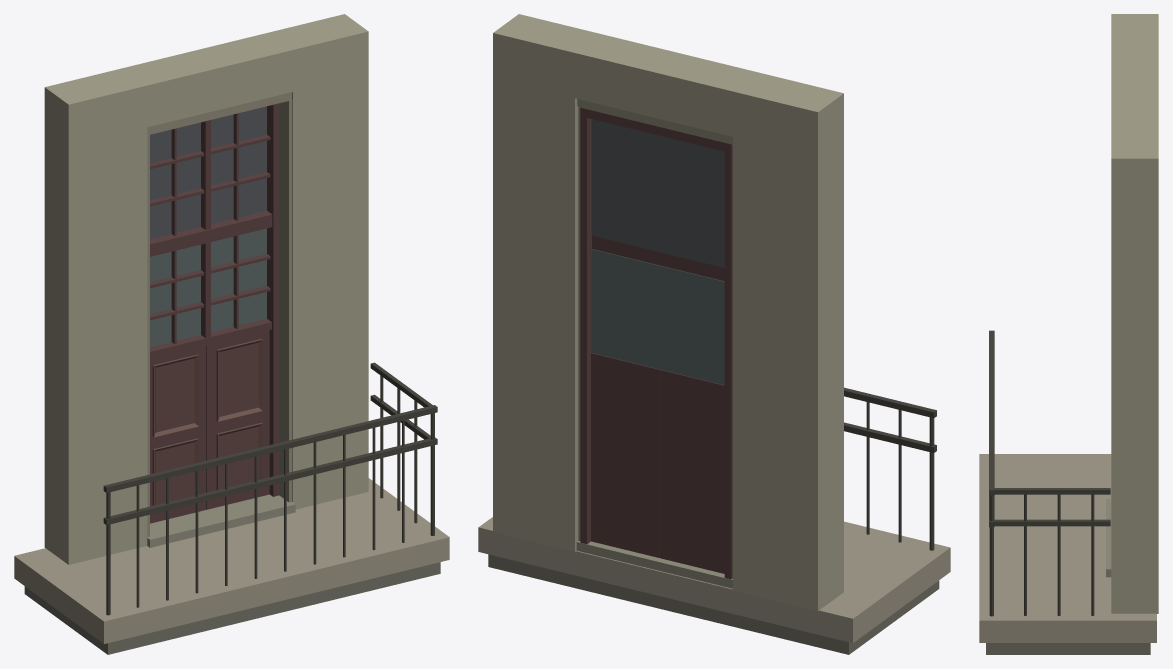
The model's file is huangpu-fuxing-599-glazed-balcony-door-lod.glb.
3 views of the same model, side by side, from view 1: azimuth 30°, elevation 25°; view 2: azimuth 150°, elevation 25°; view 3: azimuth 270°, elevation 25° (orthographic). The views are drawn at different scales.
Visible parts, largest first — view 1: 复兴中路599号住宅二层格窗阳台门与细铁栏; view 2: 复兴中路599号住宅二层格窗阳台门与细铁栏; view 3: 复兴中路599号住宅二层格窗阳台门与细铁栏.
Part boxes in pixels (box(x1,y1,x2,y2)): 复兴中路599号住宅二层格窗阳台门与细铁栏: box(14, 14, 449, 654); 复兴中路599号住宅二层格窗阳台门与细铁栏: box(478, 14, 950, 654); 复兴中路599号住宅二层格窗阳台门与细铁栏: box(979, 14, 1158, 654).
Size of the model in its own units: 2.42 by 3.33 by 1.1.
